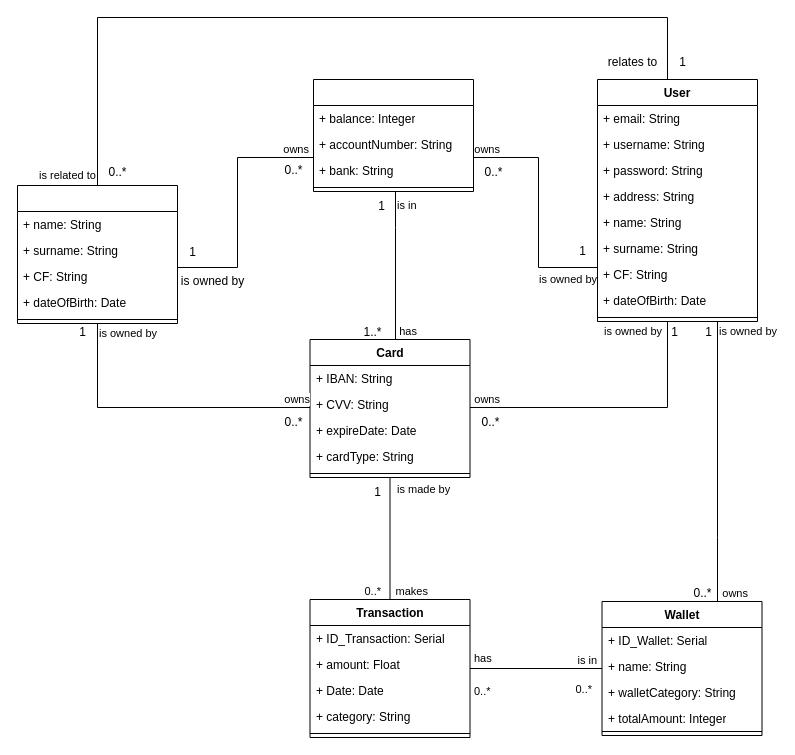
The diagram is 795 pixels wide and 755 high, and some of its shapes have lost their labels. Each missing label, with the box of its shape:
BankAccount: (312, 78, 474, 192)
Familiar: (16, 184, 178, 324)
